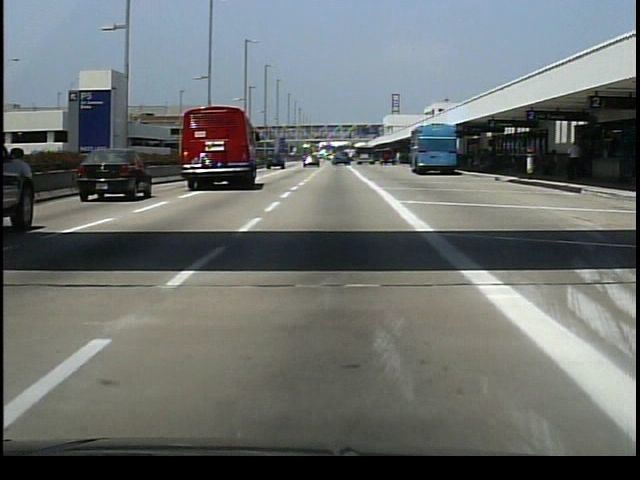person: (566, 138, 585, 183)
